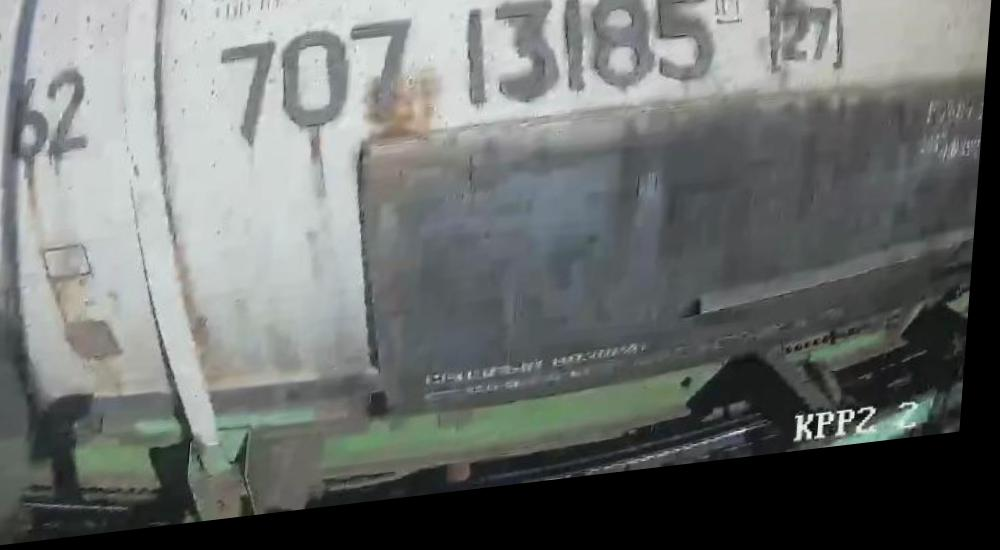Wagon-number: (206, 0, 725, 150)
